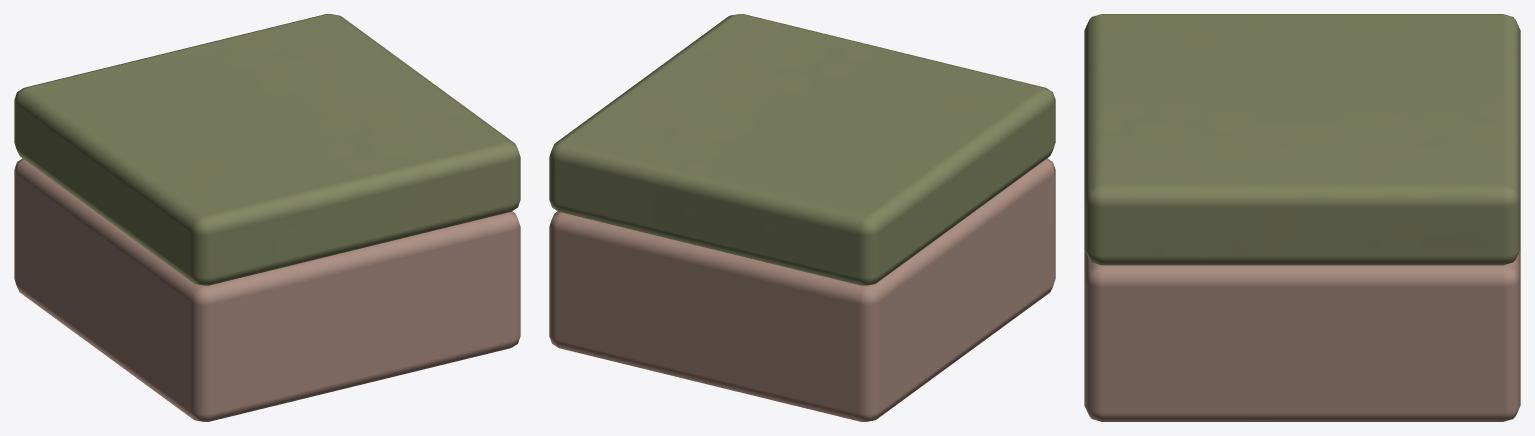
File: cube_with_swamp.01.glb
3 renders of one model, left to right at view 1: azimuth 30°, elevation 25°; view 2: azimuth 150°, elevation 25°; view 3: azimuth 270°, elevation 25°, orthographic. The views are drawn at different scales.
Parts seen in each view (by area): view 1: Cube.262; view 2: Cube.262; view 3: Cube.262.
Part boxes in pixels (x1=…): Cube.262: x1=14, y1=14, x2=520, y2=421; Cube.262: x1=549, y1=14, x2=1055, y2=421; Cube.262: x1=1084, y1=14, x2=1520, y2=421.
Size of the model in its own units: 1 by 0.6001 by 1.
Materials: 1 (1 with a texture image).
